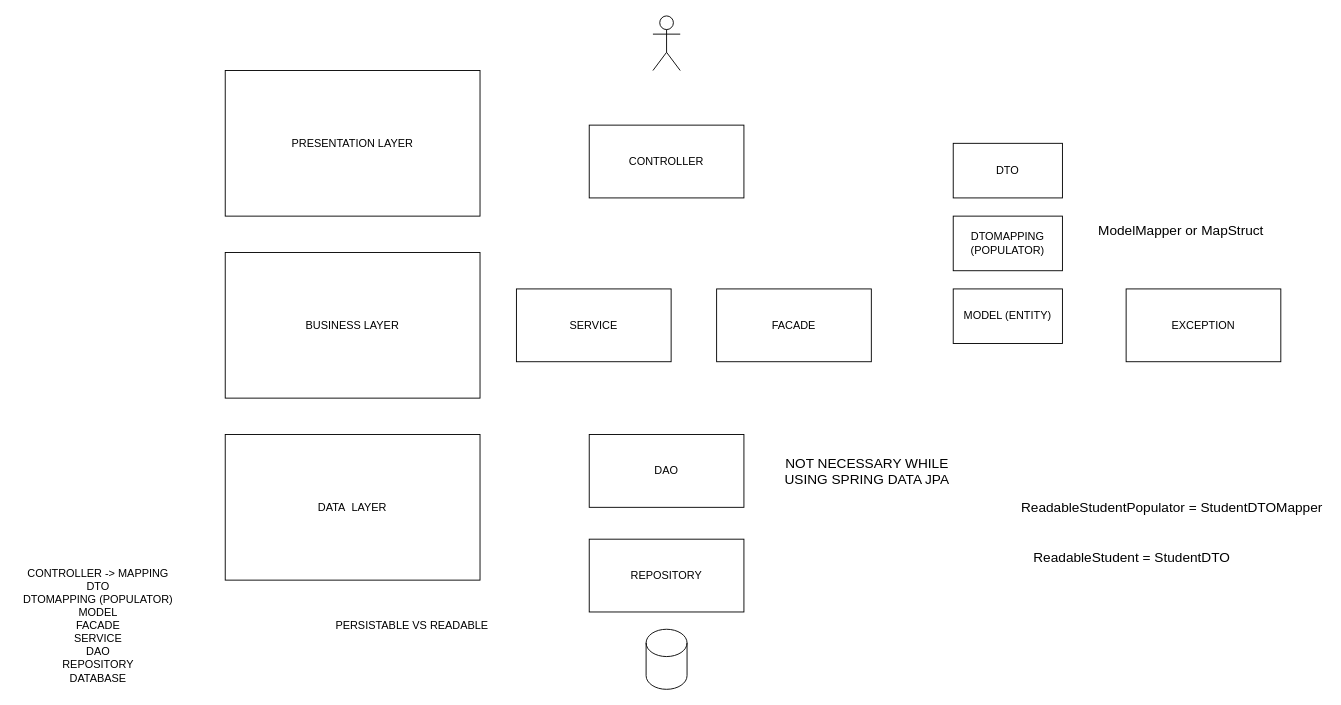
This 1341x705 diagram has some shape labels left out. The centre of each missing label's shape, as x and y in pixels:
"Actor" goes at point (666, 43).
"DB" goes at point (666, 658).
